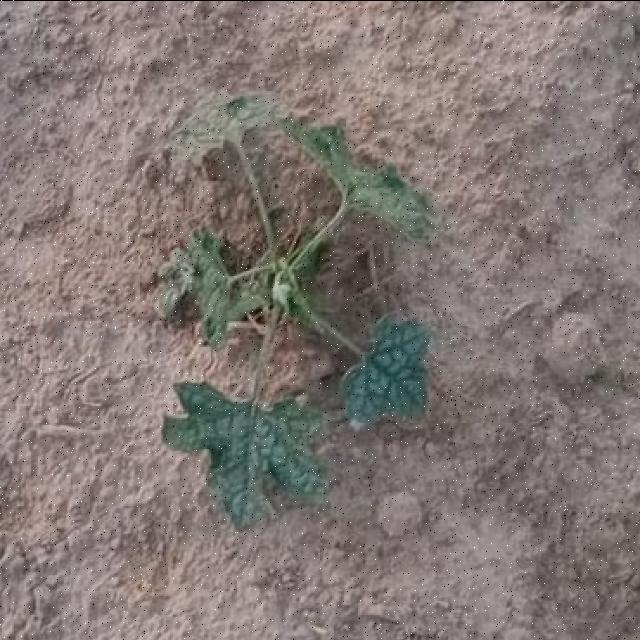plant: (158, 94, 433, 528)
